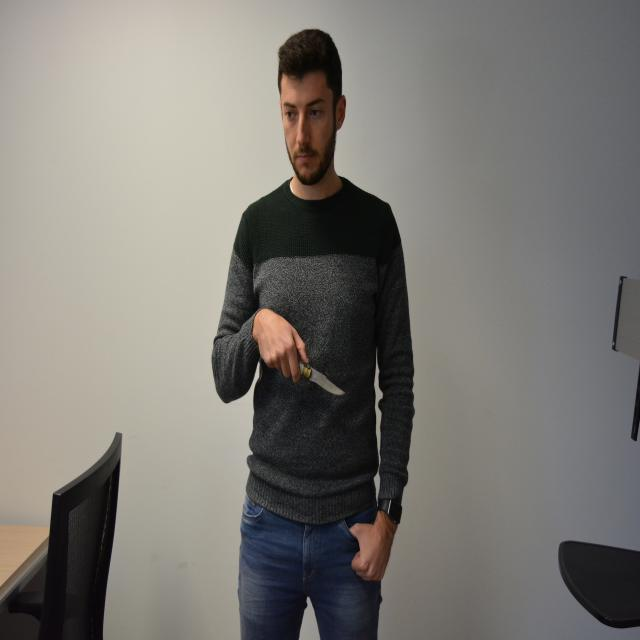knife: (298, 358, 348, 401)
